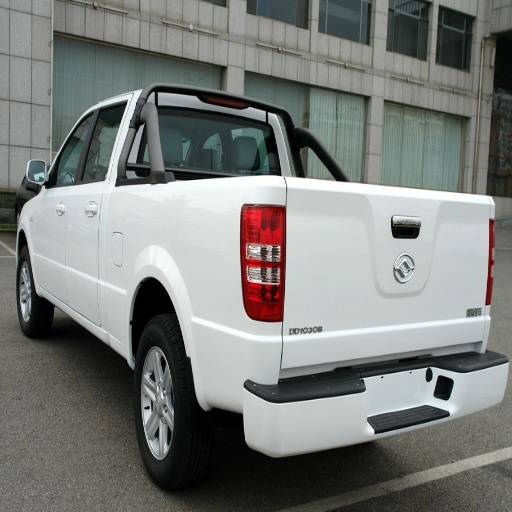_background_: (196, 352, 399, 450), (432, 340, 504, 371)
back_bumper: (161, 109, 280, 177)
back_glass: (83, 108, 118, 183)
back_left_door: (240, 211, 281, 319)
front_glass: (36, 109, 100, 308)
front_left_light: (67, 228, 97, 313)
hood: (24, 161, 47, 192)
tailgate: (96, 177, 509, 367)
trunk: (135, 316, 212, 489), (18, 248, 50, 337)
